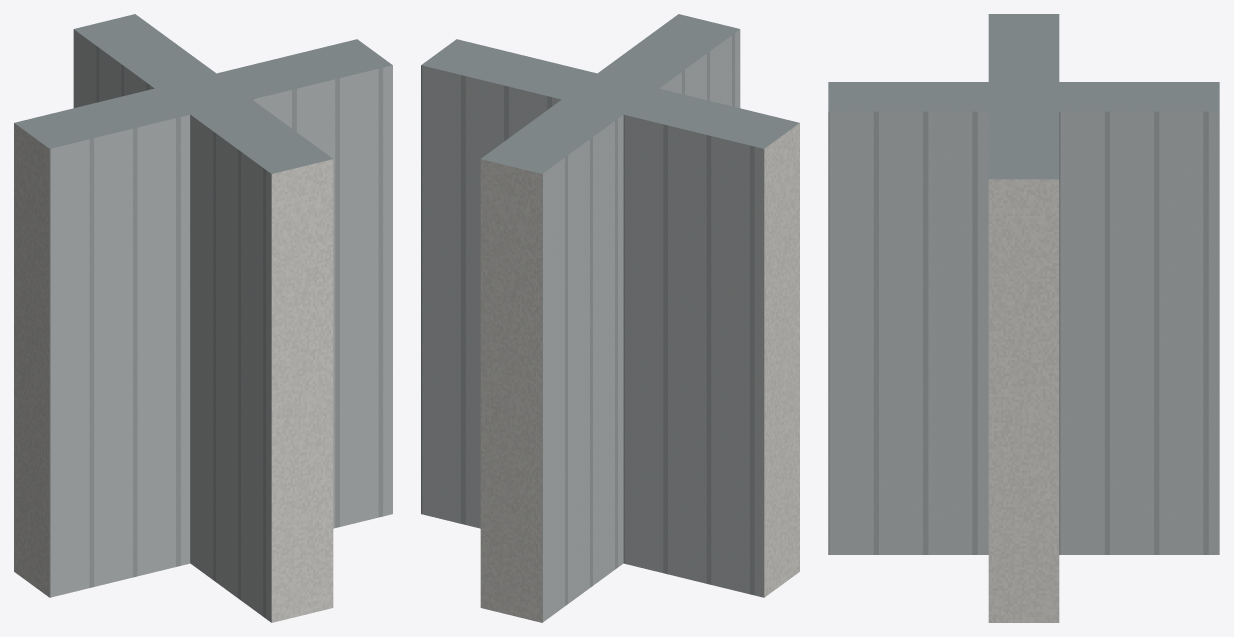
File: Wall_15.glb
3 renders of one model, left to right at view 1: azimuth 30°, elevation 25°; view 2: azimuth 150°, elevation 25°; view 3: azimuth 270°, elevation 25°, orthographic.
Visible parts, largest first — view 1: Wall_NESW_15; view 2: Wall_NESW_15; view 3: Wall_NESW_15.
Part boxes in pixels (x1=…): Wall_NESW_15: x1=14, y1=14, x2=392, y2=622; Wall_NESW_15: x1=421, y1=14, x2=799, y2=622; Wall_NESW_15: x1=828, y1=14, x2=1219, y2=622.
Size of the model in its own units: 1 by 1.25 by 1.
Materials: 1 (1 with a texture image).
